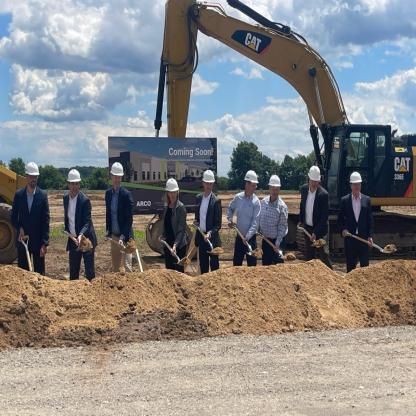person: (332, 163, 381, 281), (191, 164, 233, 290), (9, 158, 49, 277), (58, 167, 96, 288), (100, 155, 137, 272), (294, 164, 332, 277), (229, 162, 261, 276), (156, 167, 186, 282), (262, 165, 292, 265)
